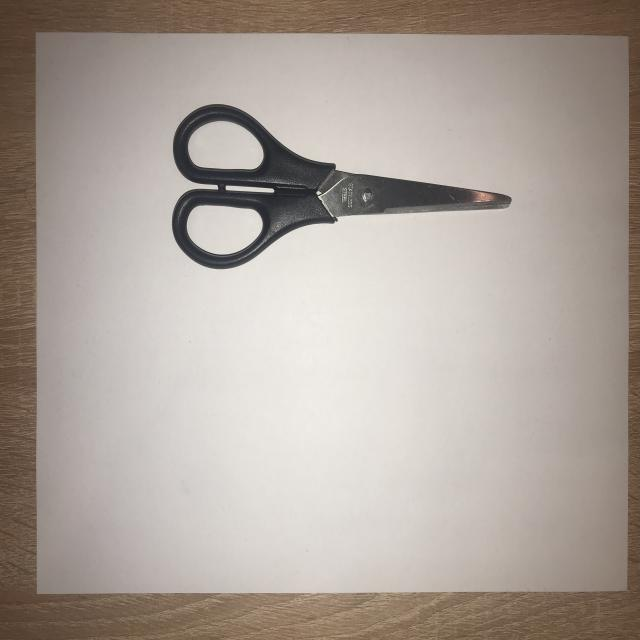scissors: (166, 92, 518, 276)
